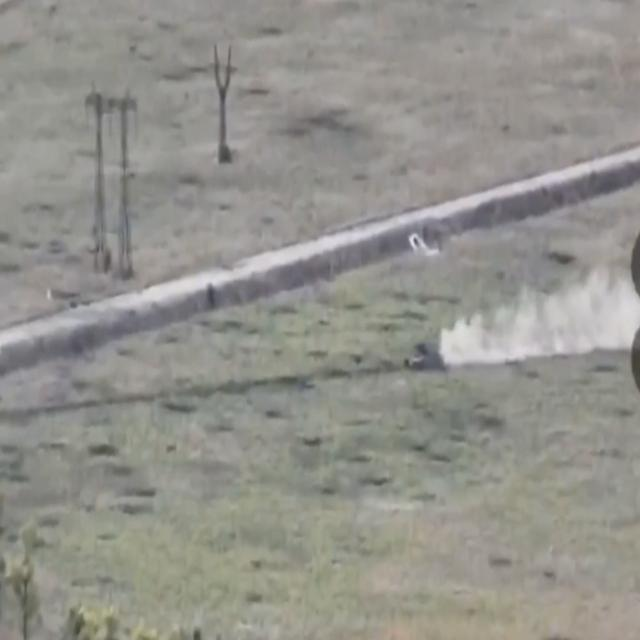vehicle: (405, 339, 441, 382)
